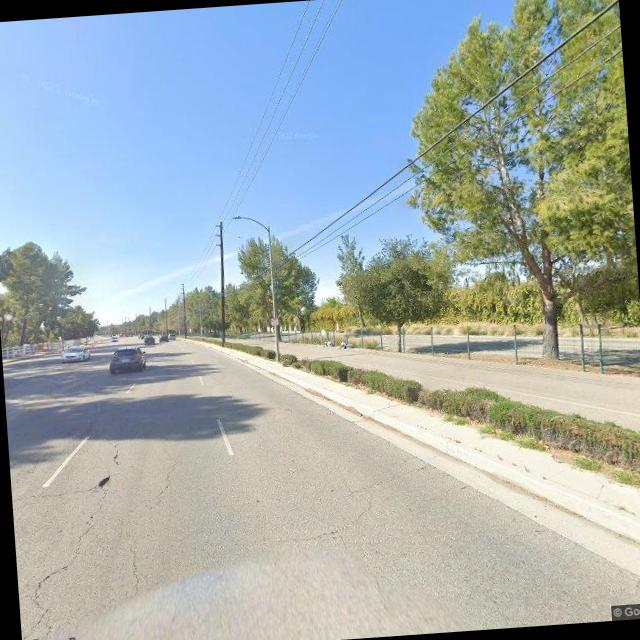pothole: (11, 438, 132, 636), (146, 429, 182, 507), (124, 543, 144, 593)
